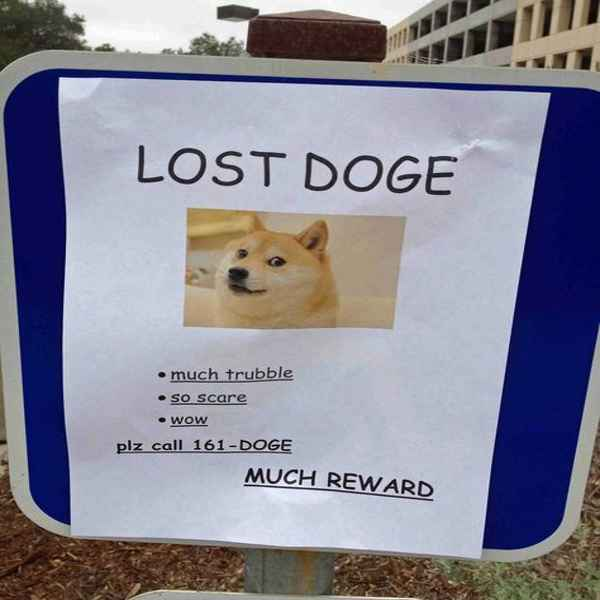doge: (207, 214, 337, 321)
